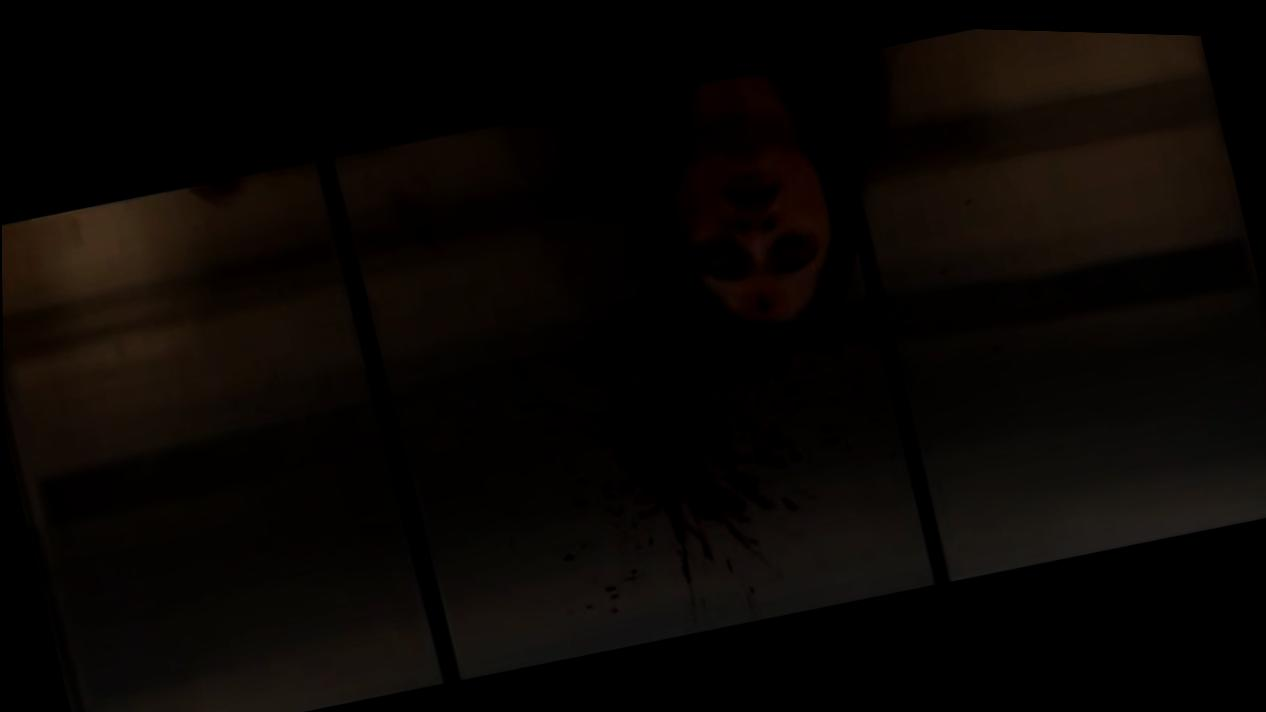Fire: (546, 200, 877, 611), (384, 186, 441, 247), (183, 177, 238, 201), (502, 353, 538, 379), (784, 483, 816, 503), (751, 287, 777, 309), (556, 551, 572, 558)
